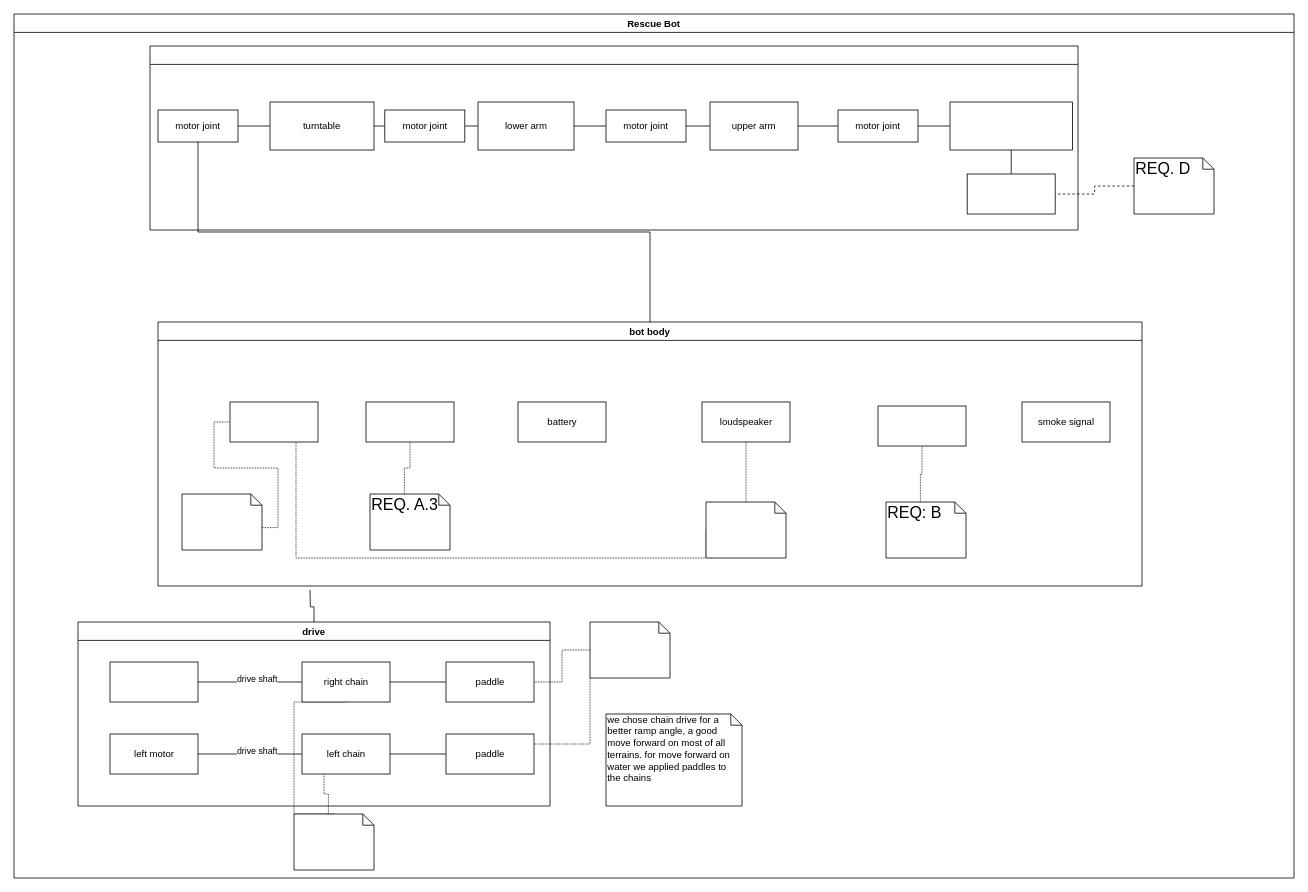
Some shapes in this 1308 by 892 pixel diagram are drawn without their labels. Each missing label, with the box of its shape:
chainsaw: (949, 101, 1072, 150)
Kamera: (966, 173, 1055, 214)
medikit: (877, 405, 966, 446)
microphone: (229, 401, 318, 442)
REQ. A.1.1: (293, 813, 374, 870)
REQ. A2: (589, 621, 670, 678)
REQ. C: (181, 493, 262, 550)
REQ. E: (705, 501, 786, 558)
right motor: (109, 661, 198, 702)
robot arm: (149, 45, 1078, 230)
ultrasonic sensors: (365, 401, 454, 442)
